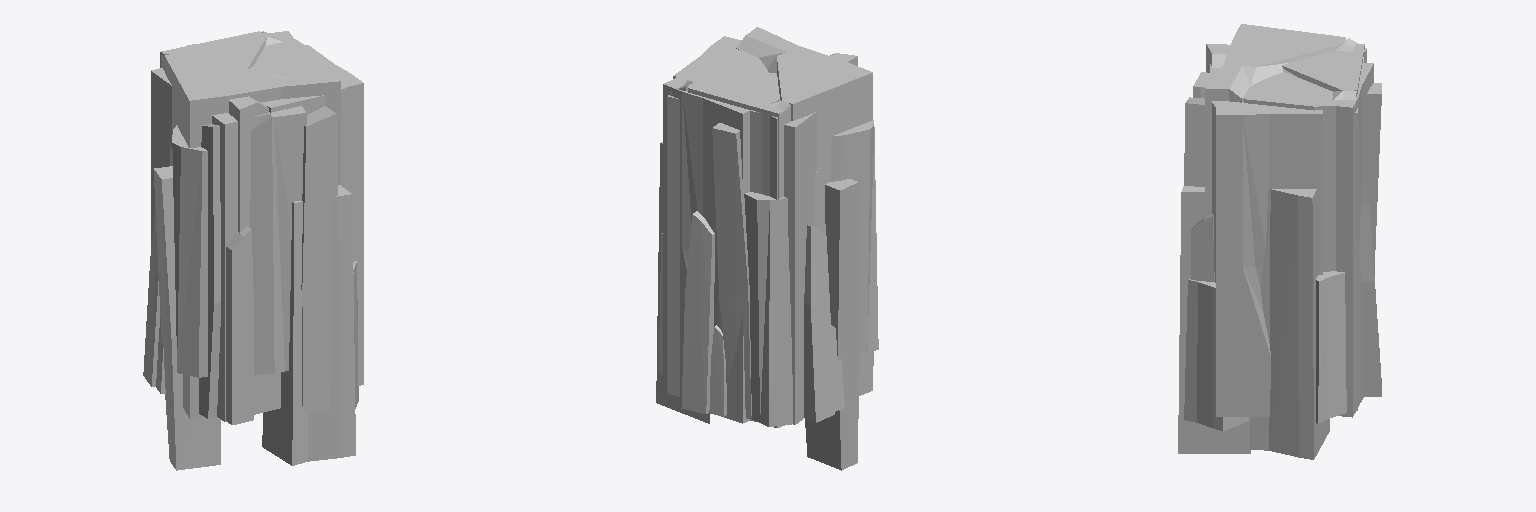
File: cliff_1000_1000.obj
3 renders of one model, left to right at view 1: azimuth 30°, elevation 25°; view 2: azimuth 150°, elevation 25°; view 3: azimuth 270°, elevation 25°, orthographic.
Parts seen in each view (by area): view 1: tile_1000_1000; view 2: tile_1000_1000; view 3: tile_1000_1000.
Boxes of the visible parts, x1,y1,x2,y2 form: tile_1000_1000: [143, 31, 363, 470]; tile_1000_1000: [656, 27, 878, 470]; tile_1000_1000: [1178, 24, 1381, 459].
Bounding box in the file's own units: 1.33 × 2.56 × 1.24.